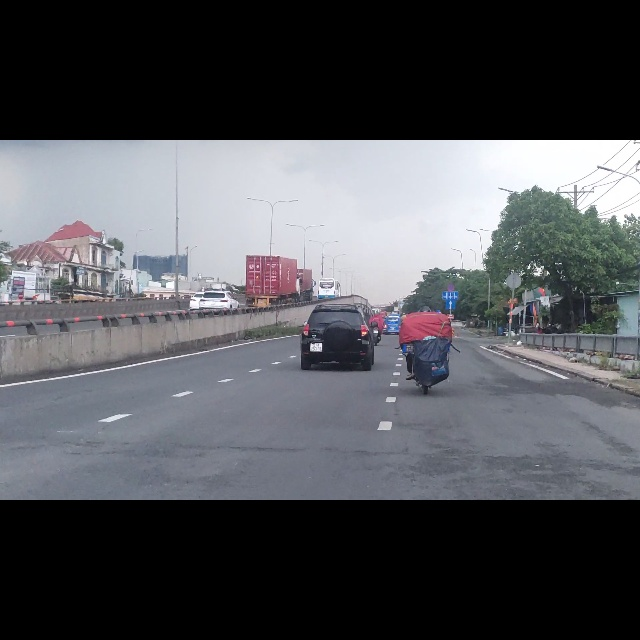bien_chi_dan: (446, 284, 456, 302), (447, 257, 455, 268)
